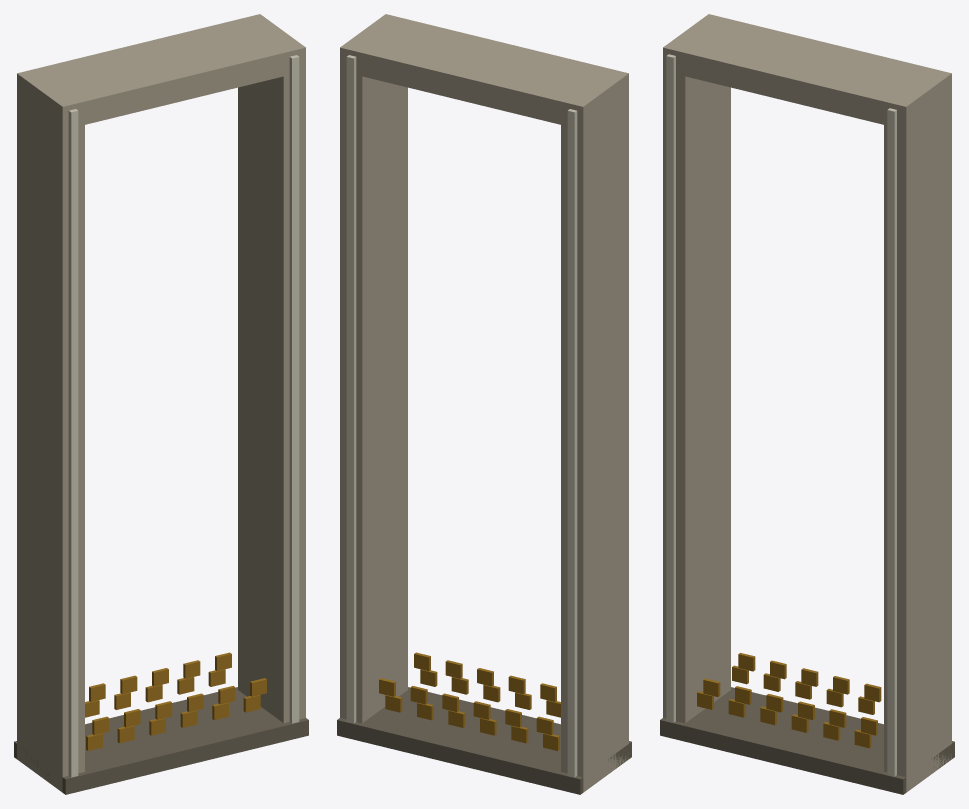
File: CMU3DSingleMediDoorOpen.glb
The picture shows the model from 3 angles, left to right: view 1: azimuth 30°, elevation 25°; view 2: azimuth 150°, elevation 25°; view 3: azimuth 330°, elevation 25°; orthographic projection.
Visible parts, largest first — view 1: door jamb (×2), header, jamb raised edge (×2), threshold; view 2: door jamb (×2), header, jamb raised edge (×2), threshold; view 3: door jamb (×2), header, jamb raised edge (×2), threshold.
Boxes of the visible parts, x1,y1,x2,y2 form: door jamb (×2): (17,14,305,792); header: (17,14,305,129); jamb raised edge (×2): (68,55,299,777); threshold: (14,687,308,794); door jamb (×2): (340,14,628,792); header: (340,14,628,129); jamb raised edge (×2): (346,55,577,777); threshold: (337,687,631,794); door jamb (×2): (663,14,951,792); header: (663,14,951,129); jamb raised edge (×2): (666,54,896,776); threshold: (660,687,954,794).
Size of the model in its own units: 0.98 by 2.64 by 0.36.
